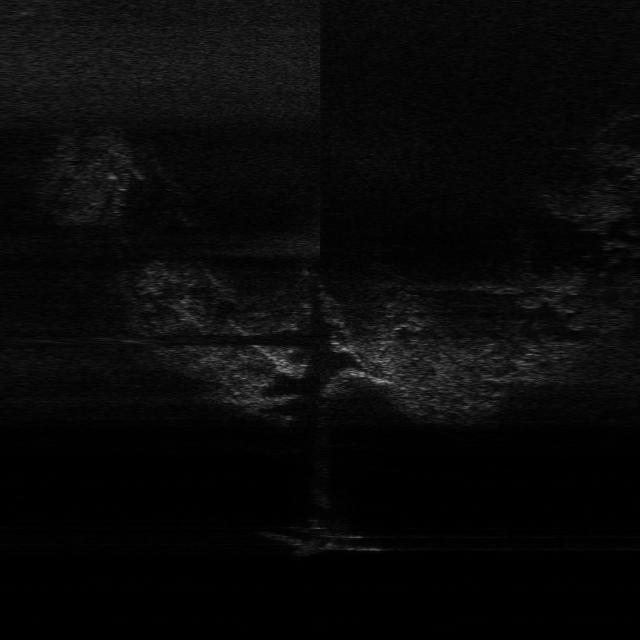plane: (258, 518, 391, 556)
